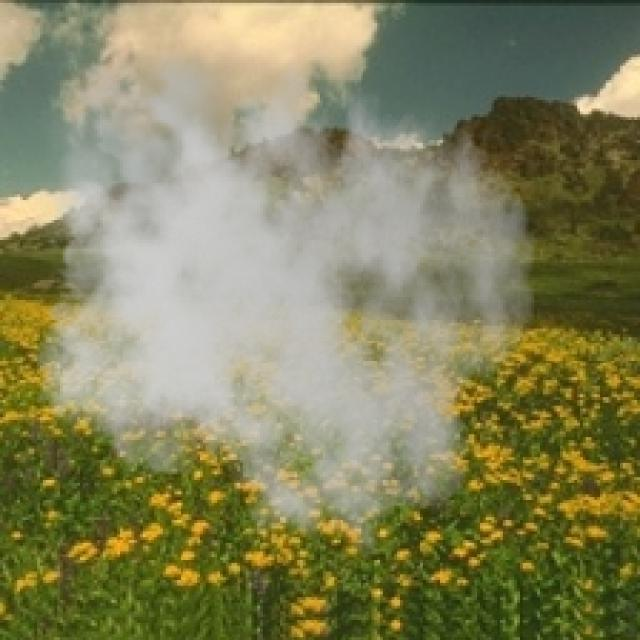smoke: (20, 23, 537, 554)
